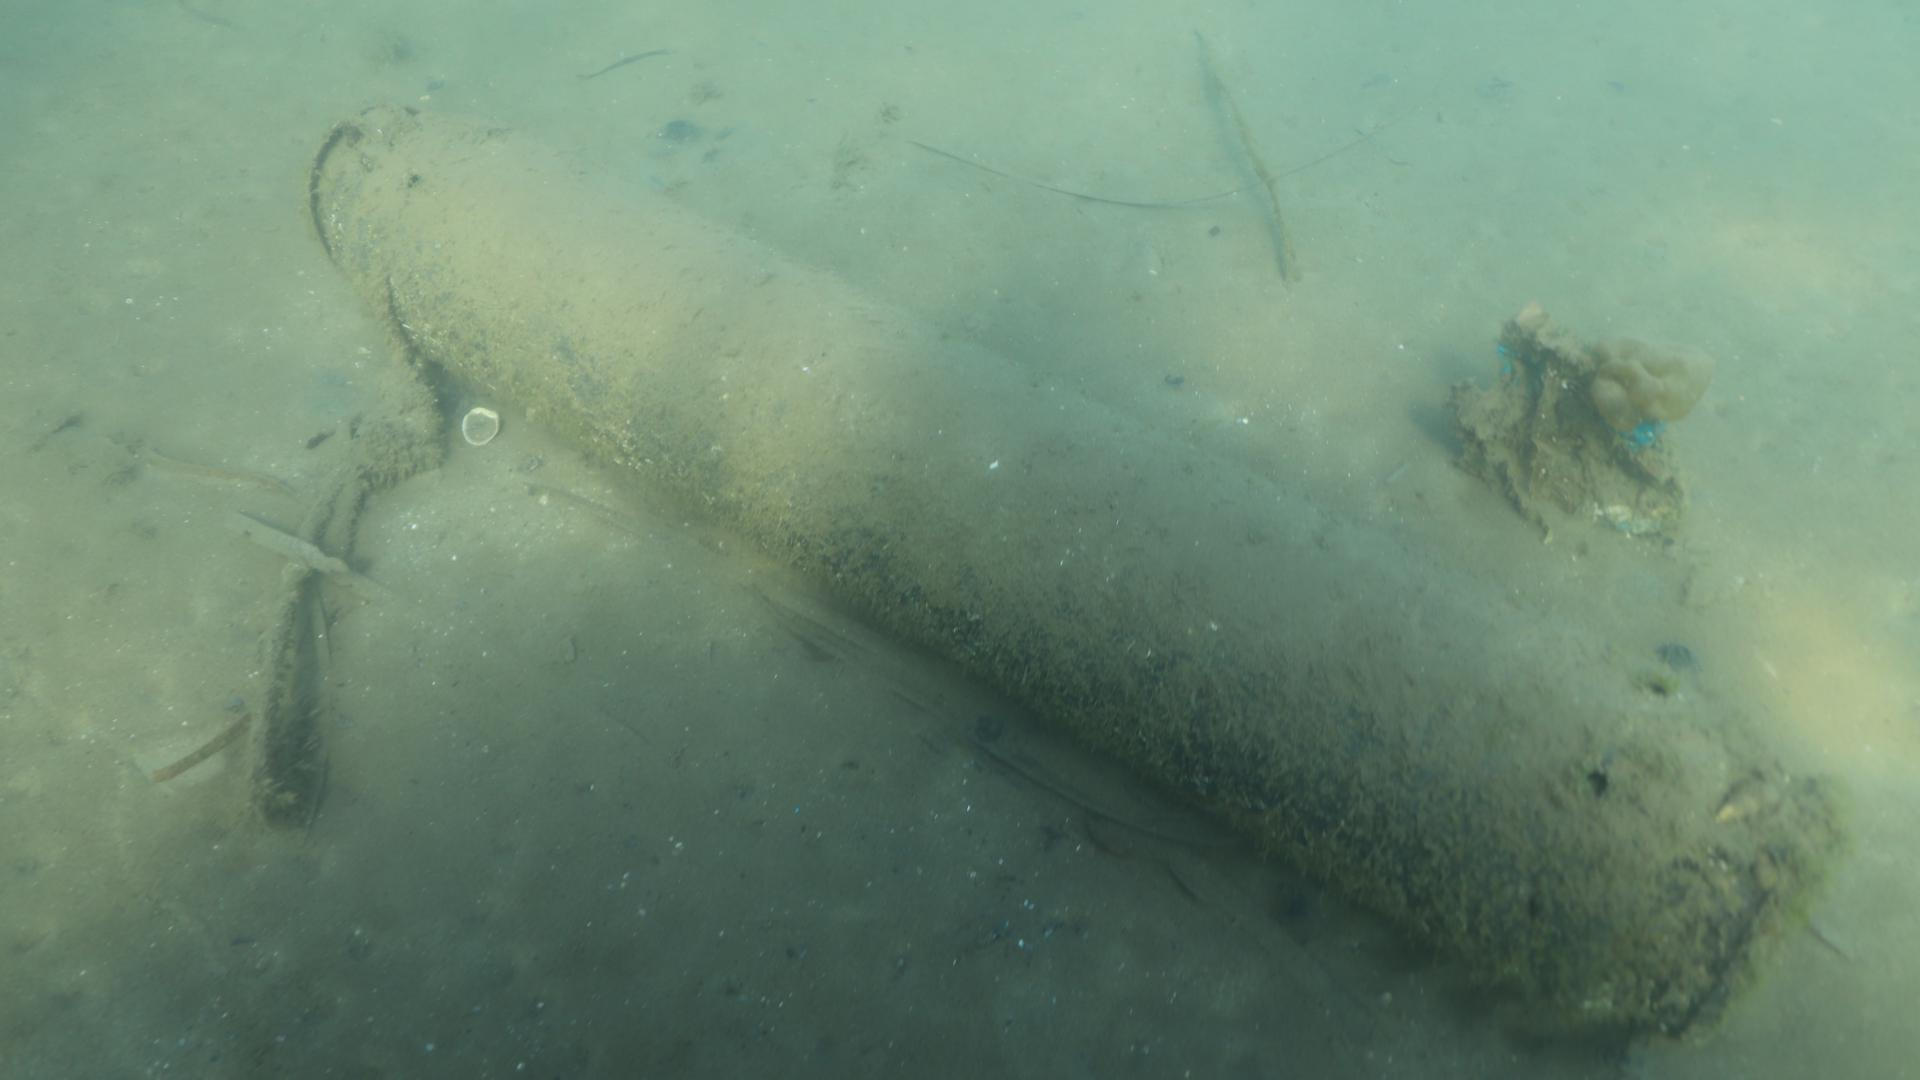eel fish trap: (309, 98, 1842, 1058)
